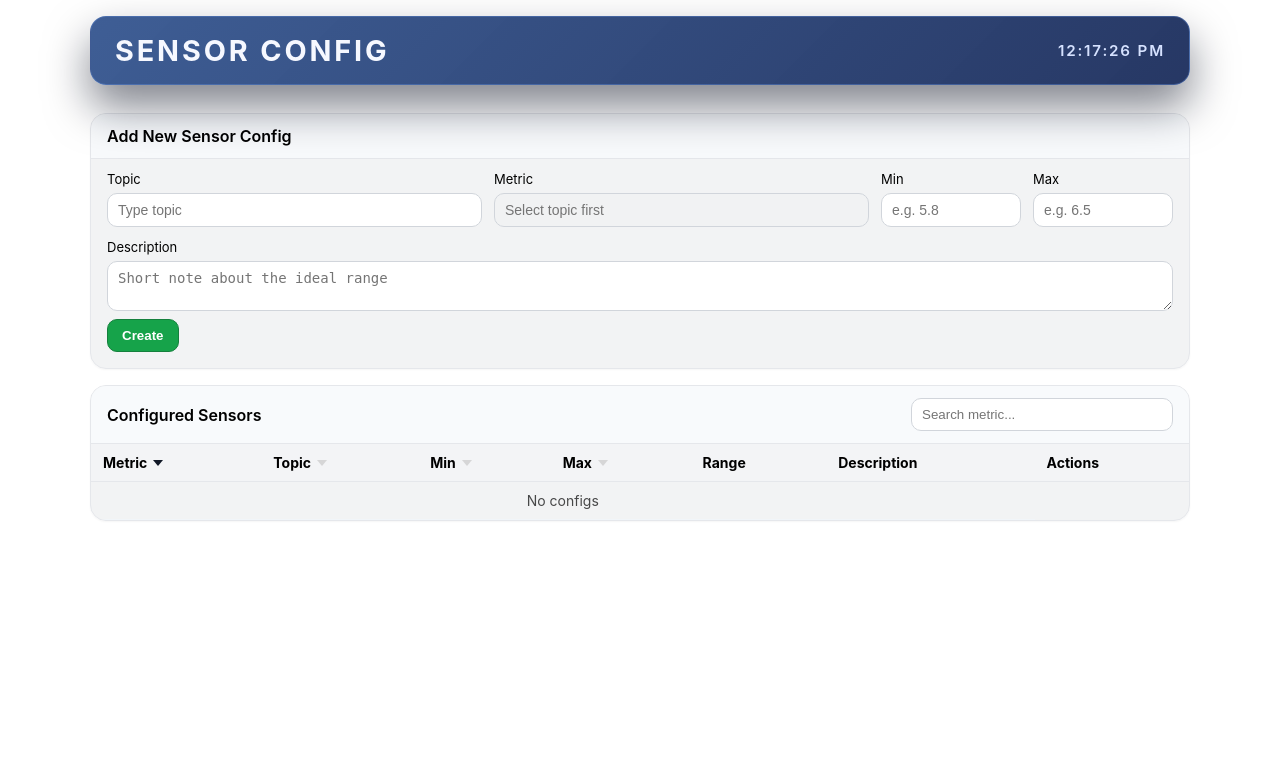
Test: create a config (assert Saved)
Type "/topic/growSensors" into the field labelled "Topic".
click(294, 210); type("/topic/growSensors")  # box [107,193,482,227]
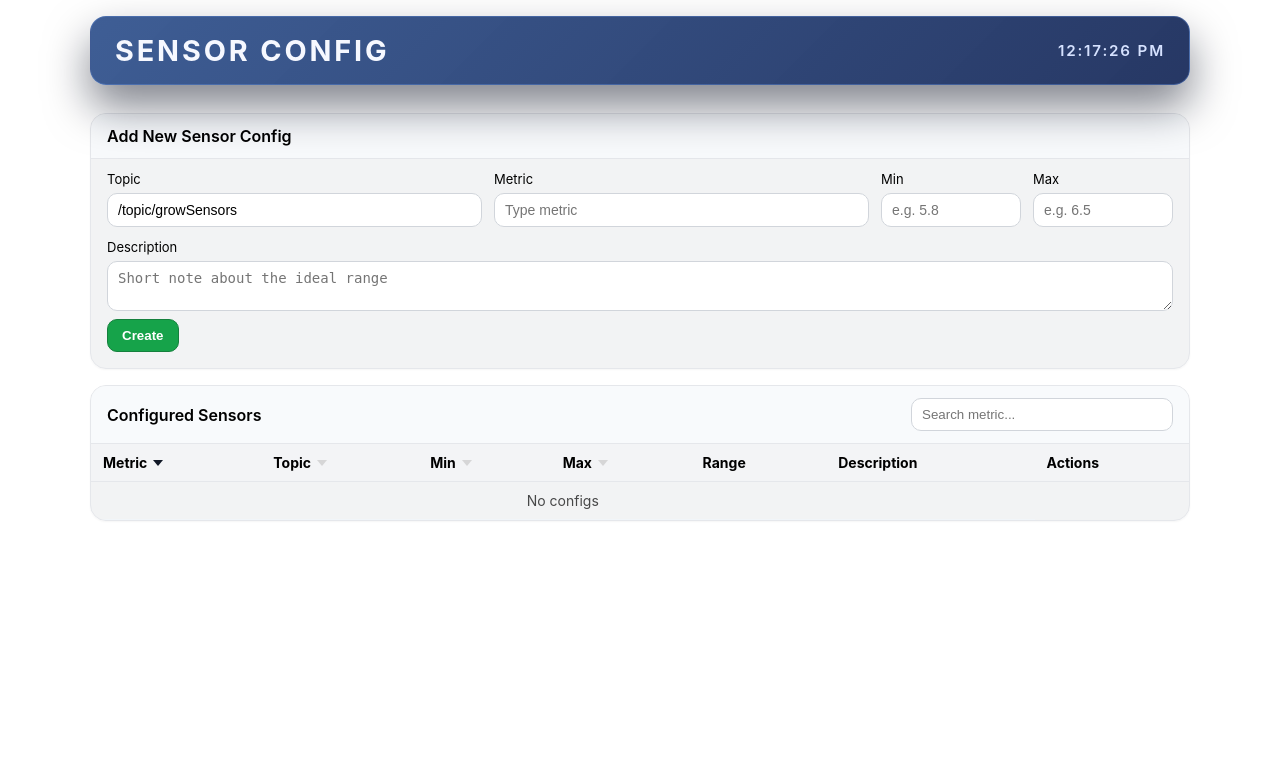
Type "A_RH_C" into the field labelled "Metric".
click(682, 210); type("A_RH_C")  # box [494,193,869,227]
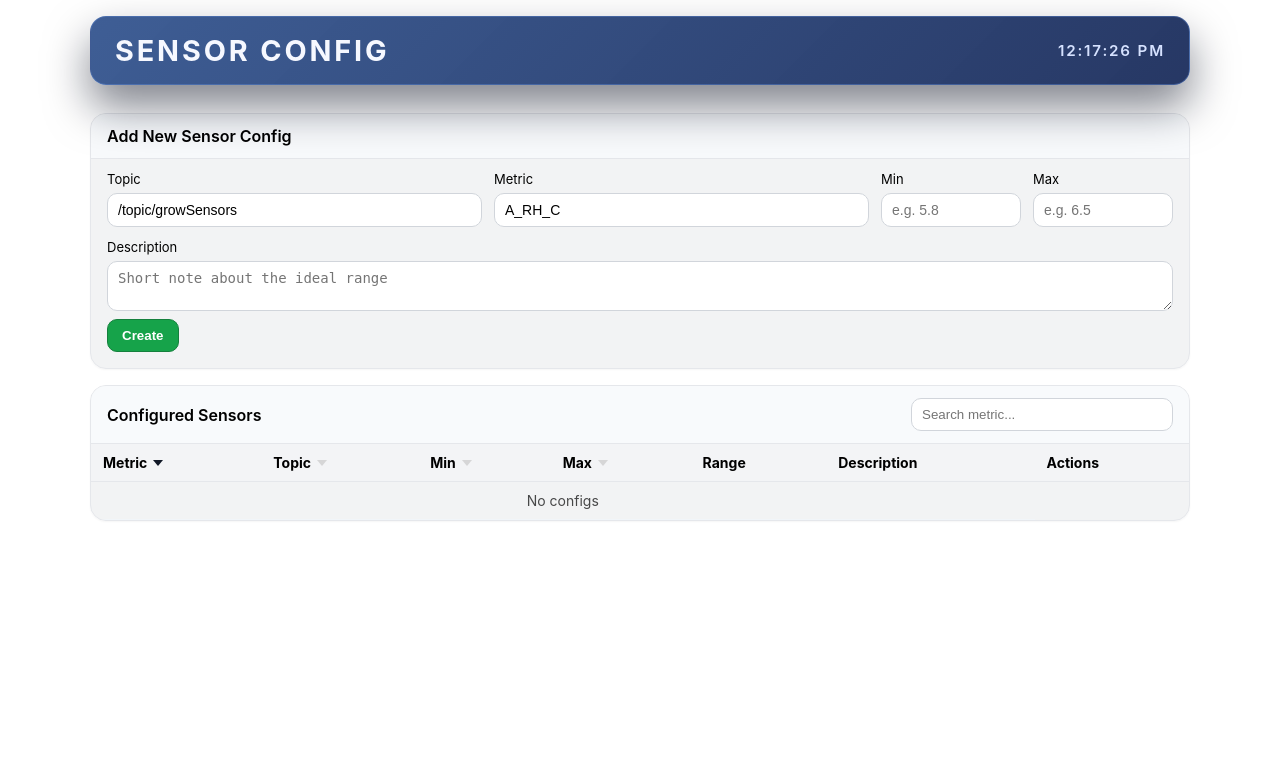
Type "40" into the number field labelled "Min".
click(951, 210); type("40")  # box [881,193,1021,227]
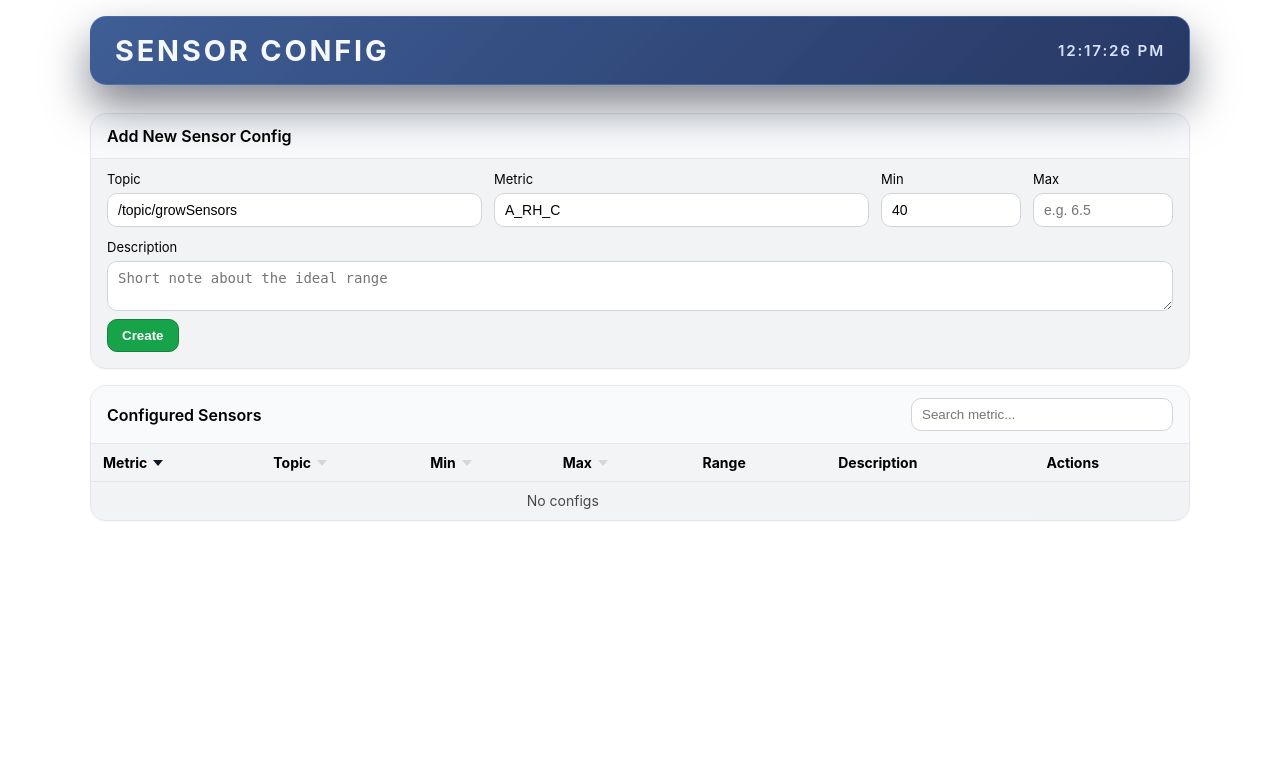
Type "60" into the number field labelled "Max".
click(1103, 210); type("60")  # box [1033,193,1173,227]
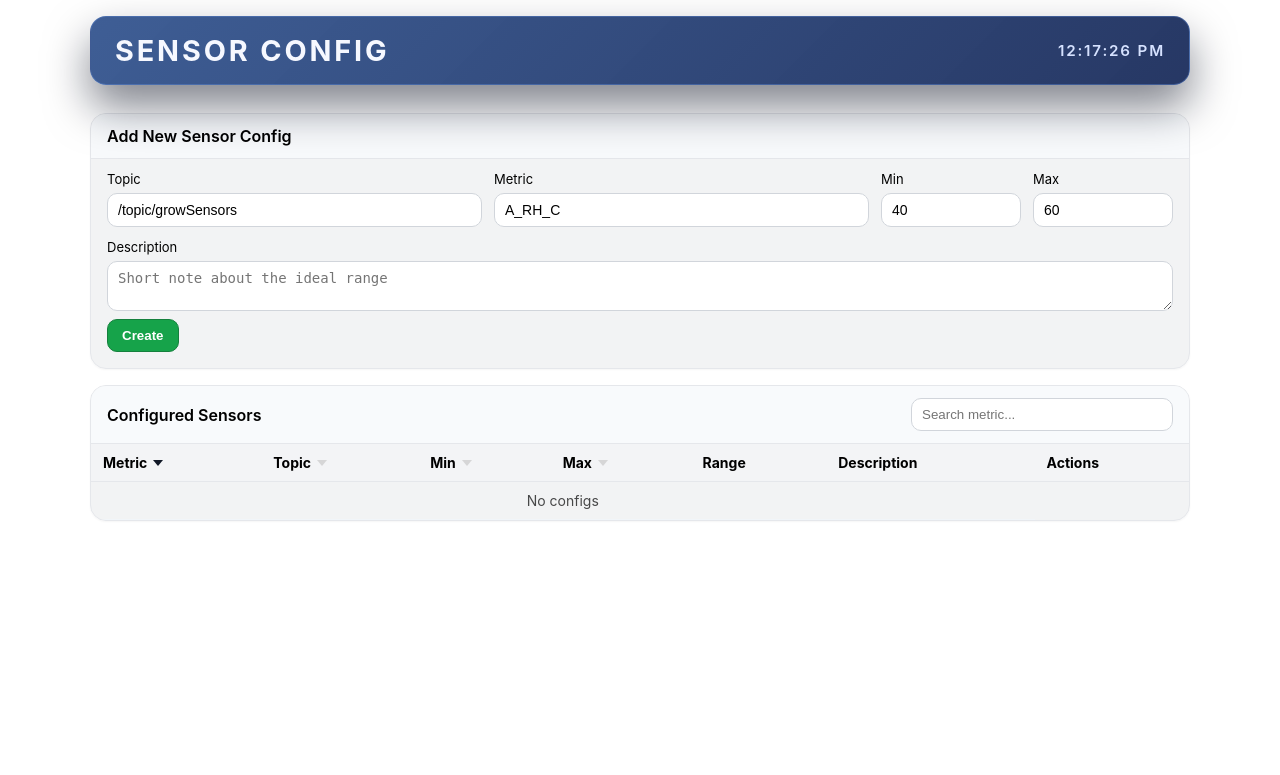
Click the button "Create".
click(143, 336)  # box [107,319,178,352]
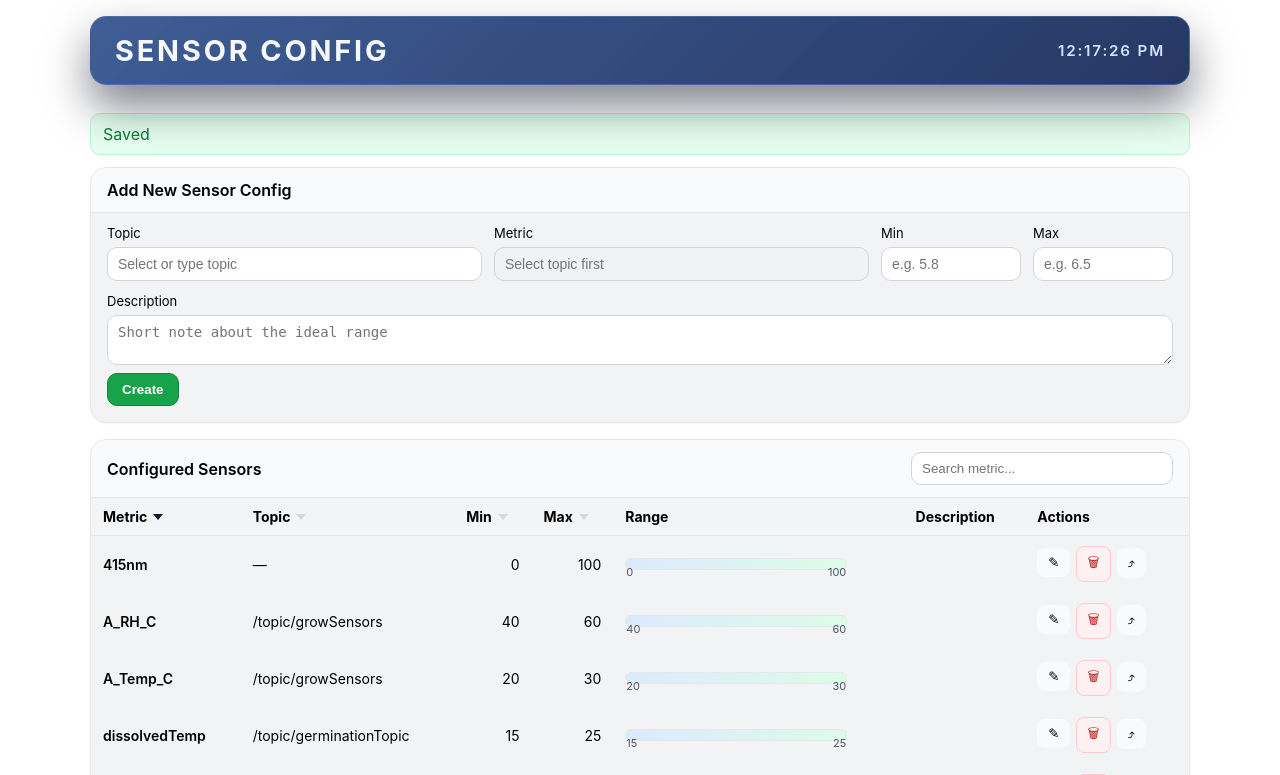
Now the text "Saved" is shown, box [90,113,1190,155]
